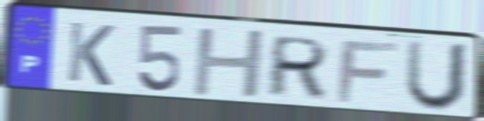5: (136, 24, 184, 94)
F: (333, 39, 401, 105)
H: (190, 27, 269, 100)
K: (64, 19, 117, 90)
R: (262, 34, 332, 99)
U: (402, 37, 473, 114)
